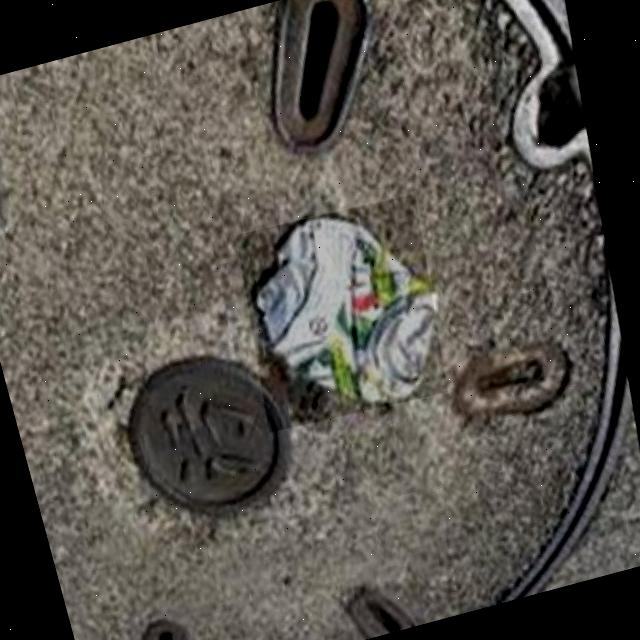trash: (226, 188, 471, 438)
